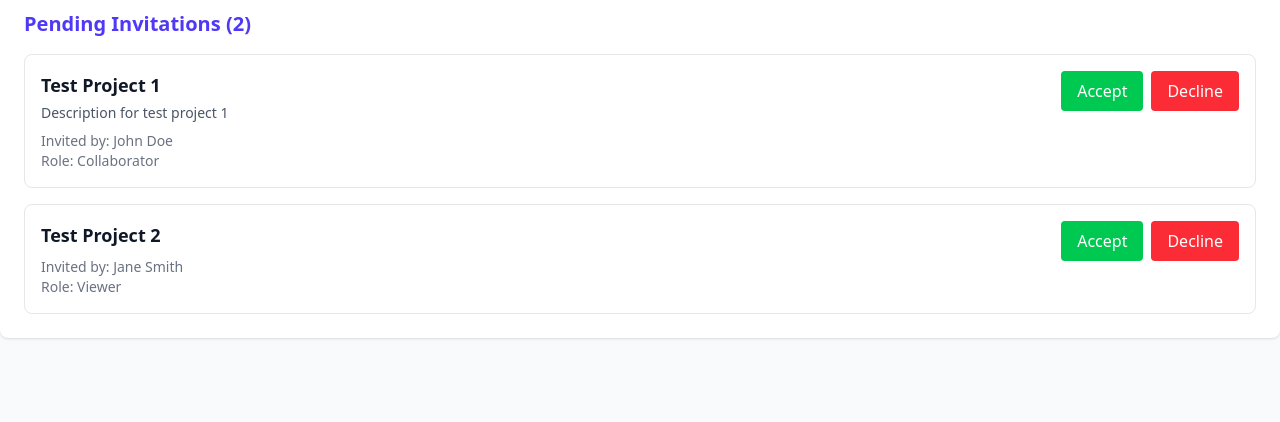
PendingInvitations › Error Handling › displays error when responding to invitation fails
Expected: the heading "Test Project 1" is shown, [41, 73, 161, 97]
Step 1. Click the button "Accept" in the row of "Description for test project 1" → (1102, 91), box [1061, 71, 1143, 111]
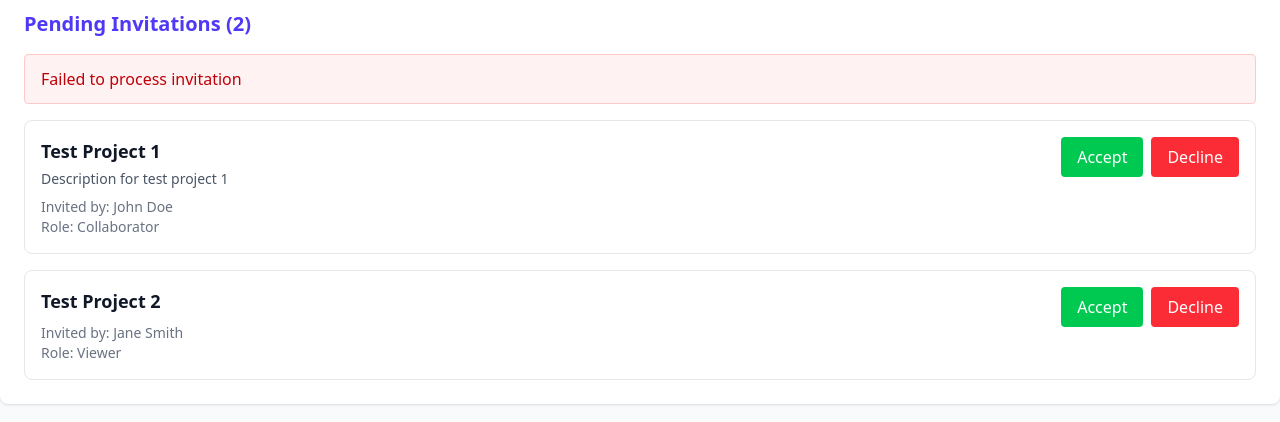
Expected: the text "Failed to process invitation" is shown, [24, 54, 1256, 104]
